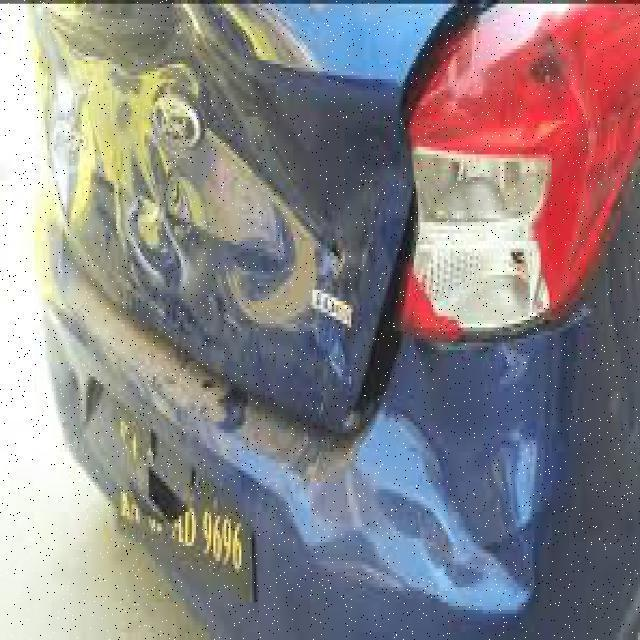Taillight-Damage: (396, 0, 638, 335)
rear-bumper-dent: (181, 343, 586, 636)
